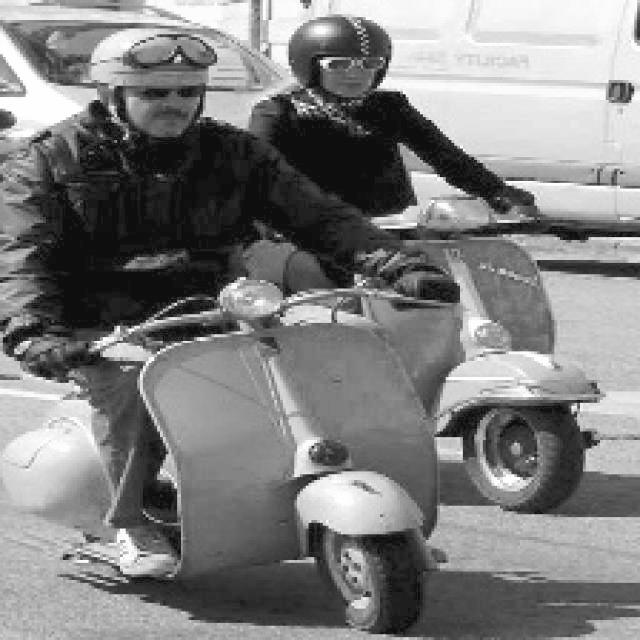Bike: (25, 304, 447, 639), (347, 204, 599, 502)
